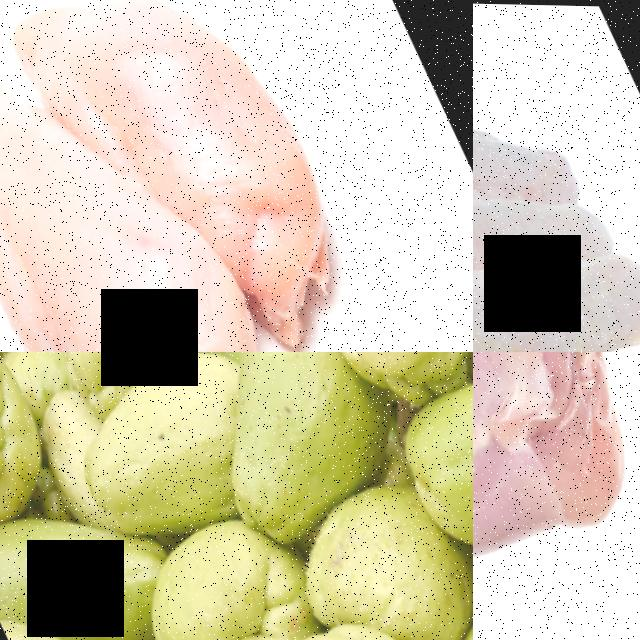chayote: (60, 369, 234, 538), (204, 352, 389, 506), (125, 508, 325, 640), (385, 352, 473, 579), (0, 352, 77, 541), (226, 589, 471, 640)
chicken breast: (0, 0, 436, 352)
chicken thigh: (473, 352, 640, 640)
chicken wing: (473, 18, 614, 352), (473, 158, 640, 352)
